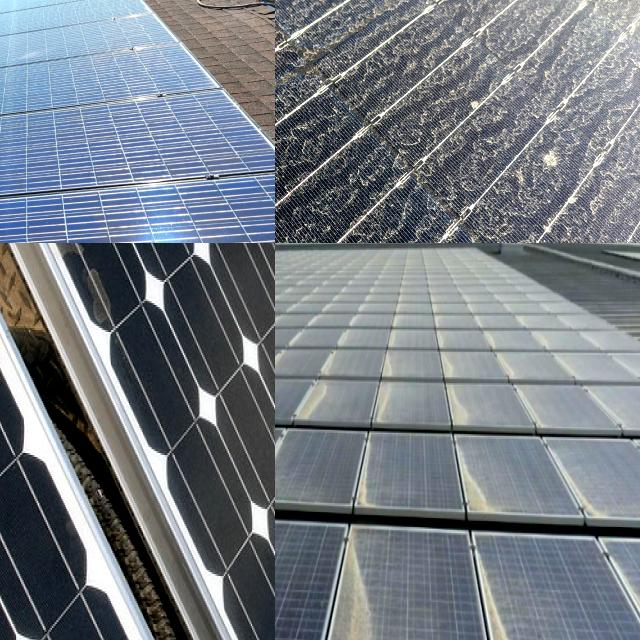bird: (275, 125, 326, 220)
crack: (0, 243, 275, 640), (0, 76, 275, 225), (0, 44, 262, 124), (0, 175, 275, 243), (0, 77, 154, 148), (0, 150, 137, 211)
dust: (384, 104, 555, 243), (275, 0, 361, 214), (462, 537, 626, 640), (308, 532, 449, 640), (546, 374, 638, 524), (349, 364, 434, 518), (409, 0, 580, 75), (446, 386, 530, 516), (575, 87, 640, 243), (275, 522, 351, 640), (275, 377, 338, 516), (437, 272, 526, 370), (300, 272, 405, 350), (275, 0, 347, 96), (275, 365, 322, 505), (275, 519, 319, 640), (275, 381, 315, 482), (275, 265, 325, 345), (275, 272, 322, 350), (275, 0, 372, 30)
